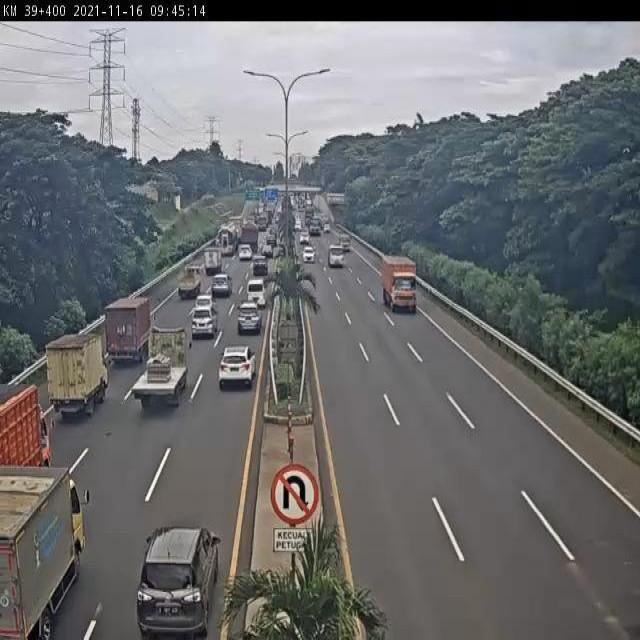car: (134, 528, 219, 640), (217, 347, 257, 393), (191, 308, 219, 344), (238, 308, 262, 339), (245, 283, 264, 313), (211, 274, 231, 302), (194, 291, 216, 313), (251, 261, 269, 279)
small truck: (131, 325, 191, 411), (41, 337, 99, 419), (104, 296, 153, 364), (177, 263, 203, 300), (202, 242, 221, 274)
truck-m-: (382, 257, 418, 311)
